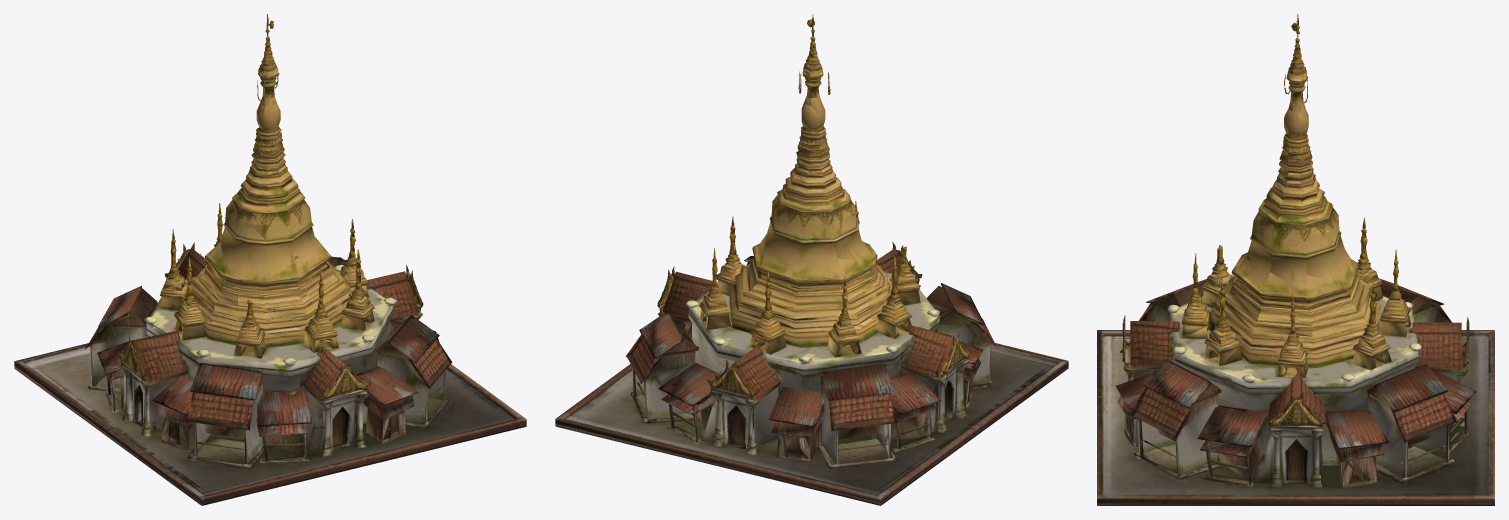
The model's file is lm_sule.glb.
3 views of the same model, side by side, from view 1: azimuth 30°, elevation 25°; view 2: azimuth 150°, elevation 25°; view 3: azimuth 270°, elevation 25° (orthographic). The views are drawn at different scales.
Visible parts, largest first — view 1: Body, Trim; view 2: Body, Trim; view 3: Body, Trim.
Part boxes in pixels (left/top/right/bottom): Body: left=14, top=15, right=526, bottom=505; Trim: left=118, top=14, right=420, bottom=396; Body: left=555, top=16, right=1068, bottom=505; Trim: left=660, top=14, right=967, bottom=395; Body: left=1097, top=15, right=1494, bottom=505; Trim: left=1124, top=14, right=1467, bottom=426.
Bounding box in the file's own units: 22.16 × 25 × 22.16.
Materials: 2 (2 with a texture image).
